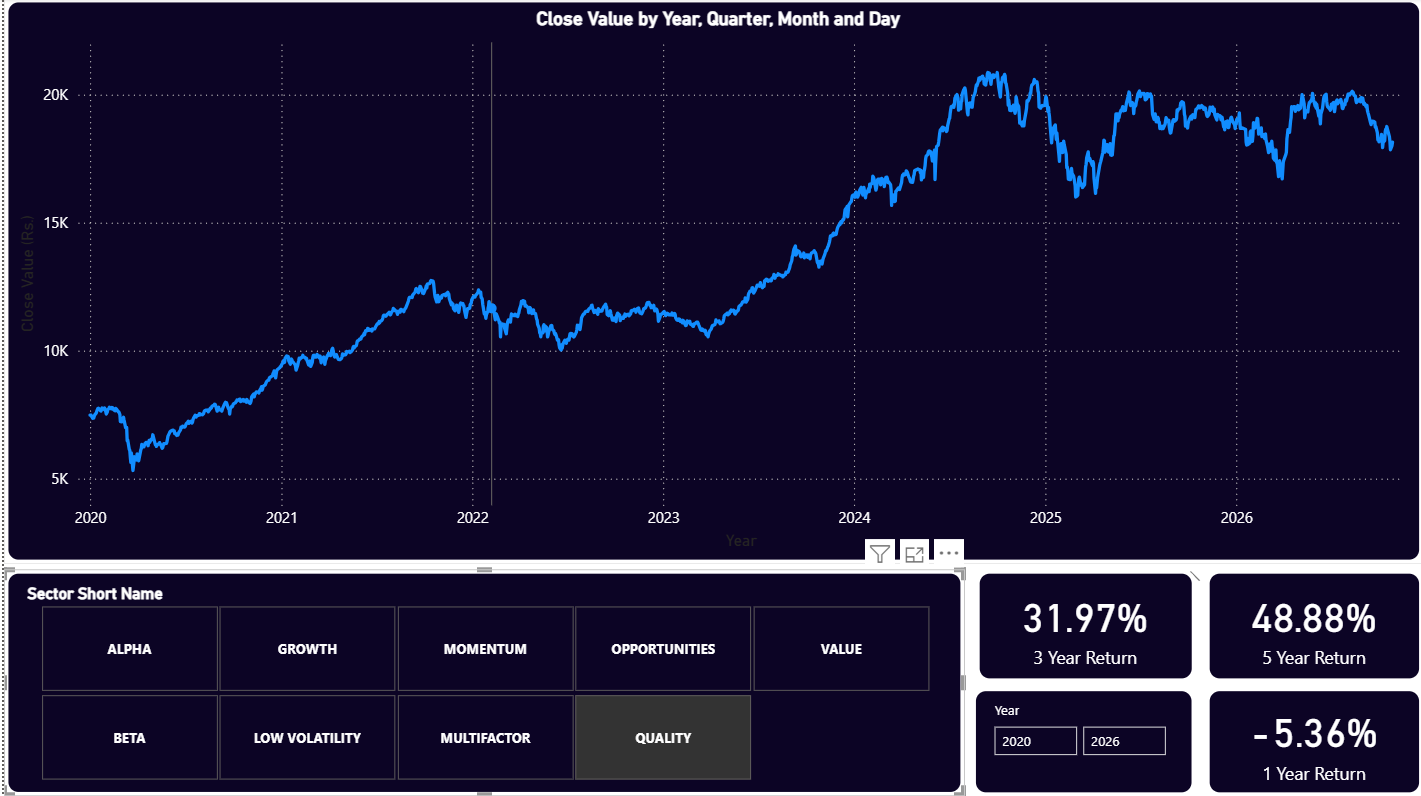

What the dashboard file says about the page in this screenshot:
{"tool":"powerbi","page":{"name":"Individual Report","canvas":[1280,720],"ordinal":1},"visuals":[{"type":"lineChart","title":" Close Value by Year, Quarter, Month and Day","fields":{"Category":["Date Table.Date.Variation.Date Hierarchy.Year","Date Table.Date.Variation.Date Hierarchy.Quarter","Date Table.Date.Variation.Date Hierarchy.Month","Date Table.Date.Variation.Date Hierarchy.Day"],"Y":["Max(Combine Data.Close)"]},"box":[0,0,1280.2,510.5],"z":0},{"type":"slicer","fields":{"Values":["Combine Data.Sector Short Name"]},"box":[0,515.1,866.3,204.7],"z":1000},{"type":"slicer","fields":{"Values":["Date Table.Year"]},"box":[872.1,620.9,202.3,98.8],"z":2000},{"type":"card","fields":{"Values":["Combine Data.3 Year Return"]},"box":[875.6,514.5,198.8,102.3],"z":3000},{"type":"card","fields":{"Values":["Combine Data.5 Year Return"]},"box":[1083.7,514.5,196.5,102.3],"z":4000},{"type":"card","fields":{"Values":["Combine Data.1 Year Return"]},"box":[1083.7,620.9,196.5,98.8],"z":5000}]}

Visuals, with their boxes in screenshot pixels (x1, y1, x2, y2), scaled from the page's 1280x720 canvas onto the 1421x796 screenshot:
" Close Value by Year, Quarter, Month and Day" lineChart: select_region(0, 0, 1420, 564)
slicer - Combine Data.Sector Short Name: select_region(0, 569, 962, 795)
slicer - Date Table.Year: select_region(968, 686, 1193, 795)
card - Combine Data.3 Year Return: select_region(972, 569, 1193, 682)
card - Combine Data.5 Year Return: select_region(1203, 569, 1420, 682)
card - Combine Data.1 Year Return: select_region(1203, 686, 1420, 795)
